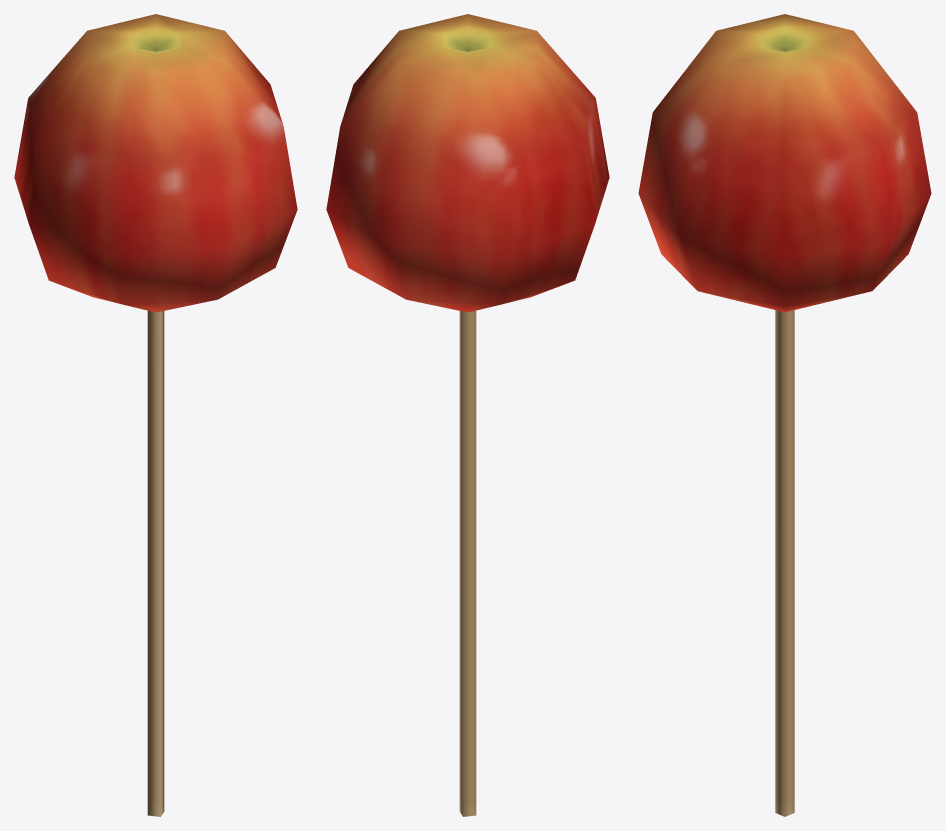
File: jsf_Apple_02.fbx
The picture shows the model from 3 angles, left to right: view 1: azimuth 30°, elevation 25°; view 2: azimuth 150°, elevation 25°; view 3: azimuth 270°, elevation 25°; orthographic projection.
Parts seen in each view (by area): view 1: jsf_Apple_02; view 2: jsf_Apple_02; view 3: jsf_Apple_02.
Part boxes in pixels (x1,y1,x2,y2): jsf_Apple_02: (14,14,297,816); jsf_Apple_02: (326,14,609,816); jsf_Apple_02: (638,14,931,816).
Bounding box in the file's own units: 6.42 × 18.66 × 6.42.
